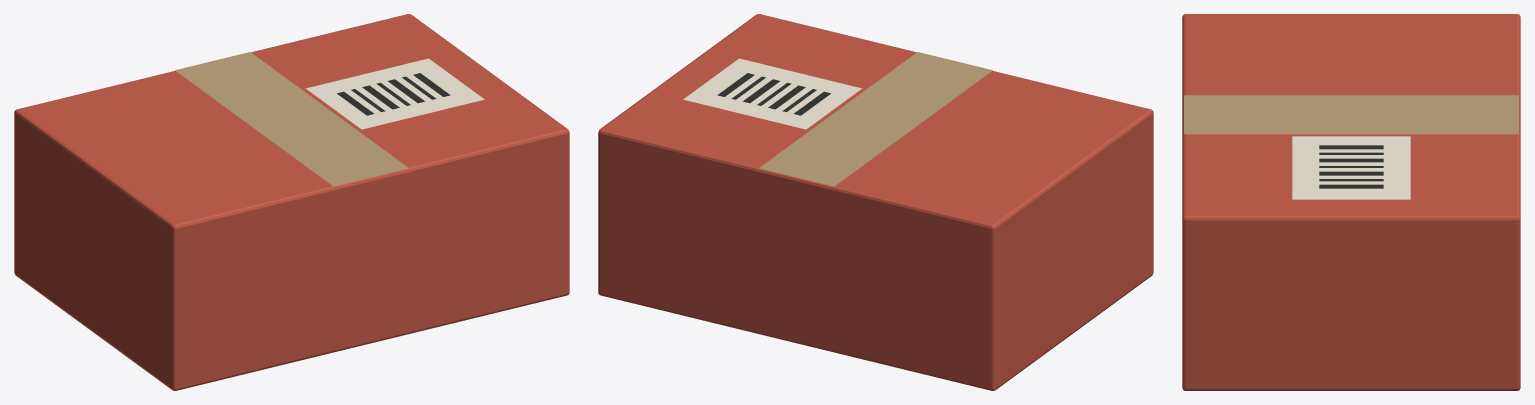
3 views of the same model, side by side, from view 1: azimuth 30°, elevation 25°; view 2: azimuth 150°, elevation 25°; view 3: azimuth 270°, elevation 25° (orthographic). The views are drawn at different scales.
Parts seen in each view (by area): view 1: parcel_body, packing_tape, shipping_label; view 2: parcel_body, packing_tape, shipping_label; view 3: parcel_body, packing_tape, shipping_label, label_bar_0, label_bar_2, label_bar_4, label_bar_6.
Boxes of the visible parts, x1,y1,x2,y2 form: parcel_body: (14,14,569,390); packing_tape: (175,52,408,186); shipping_label: (306,58,484,129); parcel_body: (598,14,1153,390); packing_tape: (759,52,992,186); shipping_label: (683,58,861,129); parcel_body: (1182,14,1520,390); packing_tape: (1184,95,1518,134); shipping_label: (1292,136,1410,199); label_bar_0: (1319,145,1383,149); label_bar_2: (1319,158,1383,162); label_bar_4: (1319,171,1383,175); label_bar_6: (1319,184,1383,188).
Bounding box in the file's own units: 0.05 × 0.02 × 0.035.
